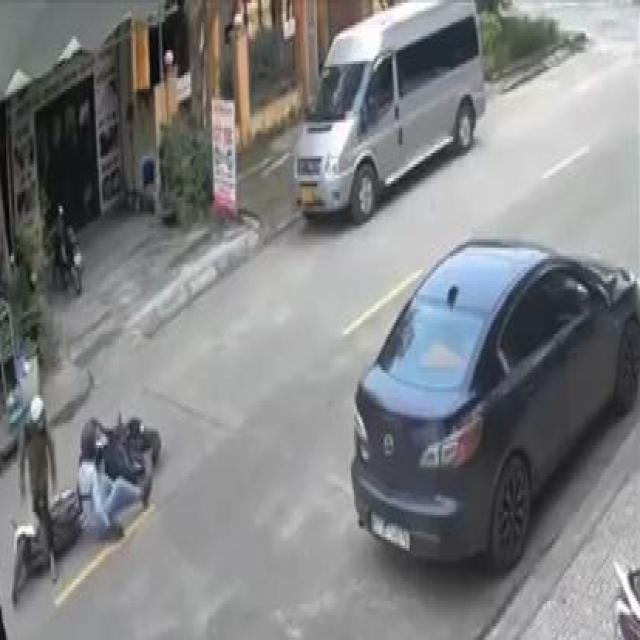accident: (6, 379, 166, 613)
